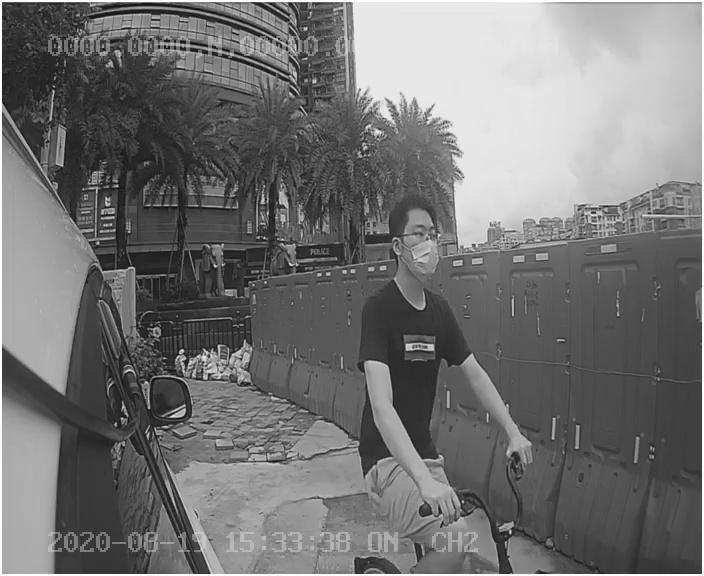person: (335, 197, 540, 517)
